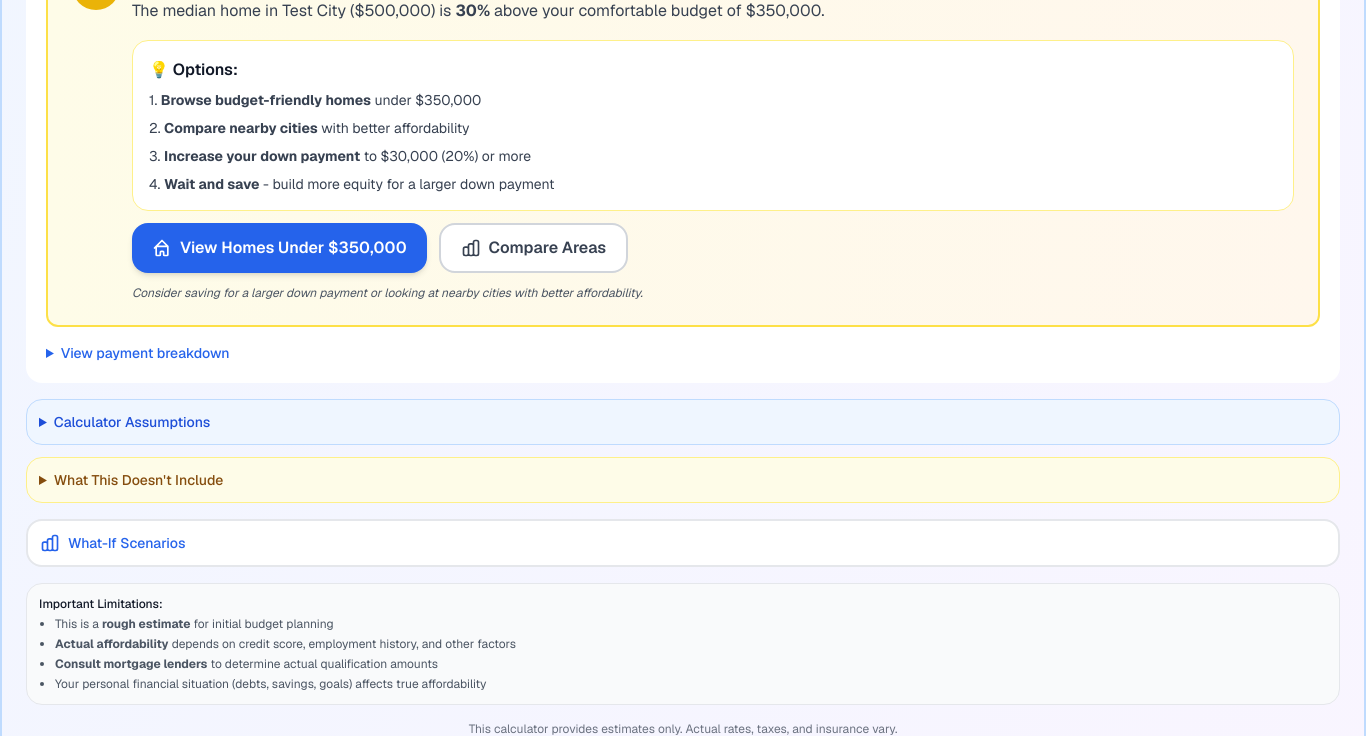
Scenario: AffordabilityCalculator Component › Payment Breakdown › should include interest rate assumption
The image size is (1366, 736).
(page scrolled)
Click the heading "View payment breakdown".
click(145, 353)  # box [61,344,230,362]
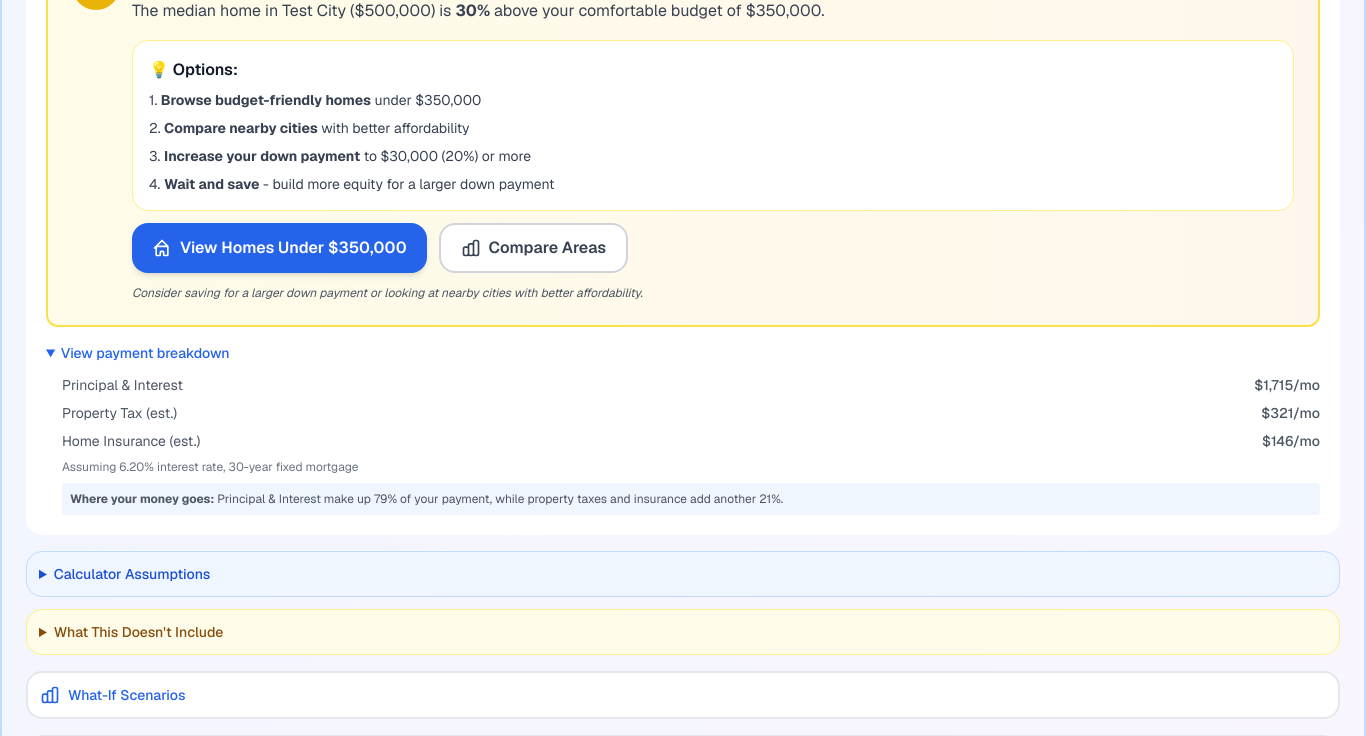
Expected: the text "Assuming 6.20% interest rate, 30-year fixed mortgage" is shown, [62,459,358,475]
